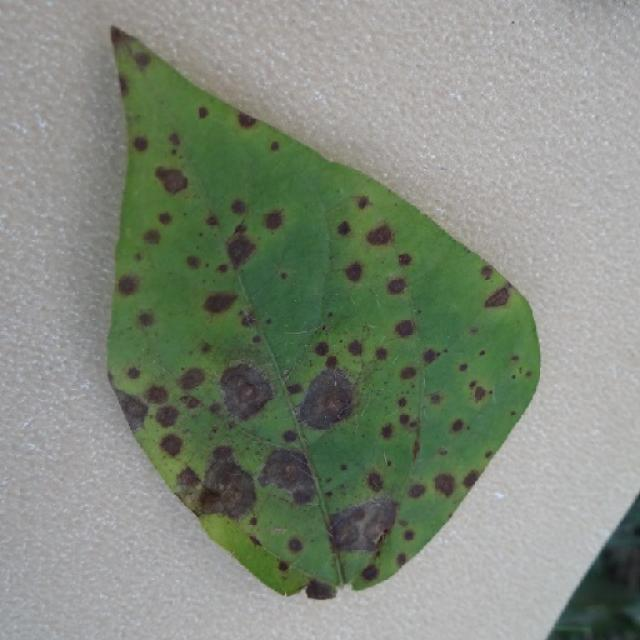Anthracnose: (211, 359, 280, 427), (201, 450, 259, 521), (329, 495, 398, 554), (296, 368, 357, 431), (257, 447, 318, 506), (112, 387, 147, 433), (609, 544, 640, 587), (225, 232, 257, 267), (154, 166, 191, 196), (175, 466, 205, 502), (331, 516, 362, 549), (201, 290, 240, 315), (197, 489, 227, 516), (177, 366, 207, 391), (200, 467, 228, 493), (154, 404, 181, 430), (365, 223, 394, 247), (305, 579, 336, 600), (158, 432, 183, 458), (433, 471, 457, 498), (116, 274, 140, 298), (484, 286, 510, 308), (145, 384, 169, 406), (211, 445, 236, 465), (605, 558, 624, 584), (263, 210, 284, 231), (343, 261, 363, 283), (394, 319, 415, 339), (110, 27, 130, 48), (462, 468, 481, 490), (386, 277, 408, 295), (366, 471, 384, 493), (142, 228, 161, 246), (238, 309, 257, 327), (346, 339, 364, 357), (132, 51, 151, 68), (407, 482, 426, 499), (360, 564, 379, 581), (237, 112, 257, 128), (422, 348, 440, 365), (602, 547, 616, 568), (230, 198, 247, 215), (137, 311, 154, 328), (132, 135, 149, 152), (313, 340, 330, 357), (286, 536, 303, 553), (399, 366, 417, 381), (336, 220, 352, 236), (473, 385, 487, 403), (397, 252, 413, 267), (117, 75, 129, 95), (450, 418, 465, 434), (380, 423, 394, 440), (374, 346, 389, 361), (355, 195, 370, 210), (186, 255, 201, 270), (157, 211, 173, 225), (480, 264, 494, 280), (126, 366, 141, 380), (168, 132, 181, 147), (324, 355, 338, 368), (429, 392, 443, 405), (412, 440, 421, 460), (205, 214, 218, 227), (398, 413, 411, 426), (200, 342, 212, 354), (277, 560, 289, 572), (198, 106, 209, 119), (270, 140, 280, 152), (458, 362, 468, 372), (398, 397, 407, 408), (438, 447, 448, 456), (279, 271, 288, 280), (339, 463, 348, 472), (470, 326, 479, 335), (484, 450, 493, 459), (510, 354, 520, 362), (525, 370, 533, 378), (478, 350, 486, 357), (265, 318, 272, 325), (321, 324, 327, 332)
Blackgram: (108, 29, 539, 598)
